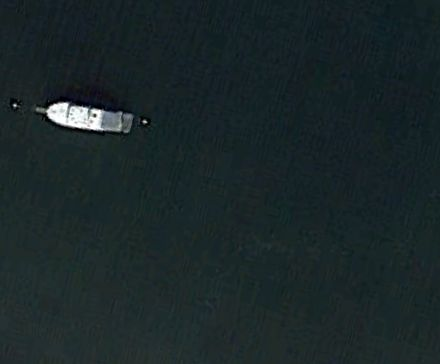boat: (37, 100, 135, 136)
